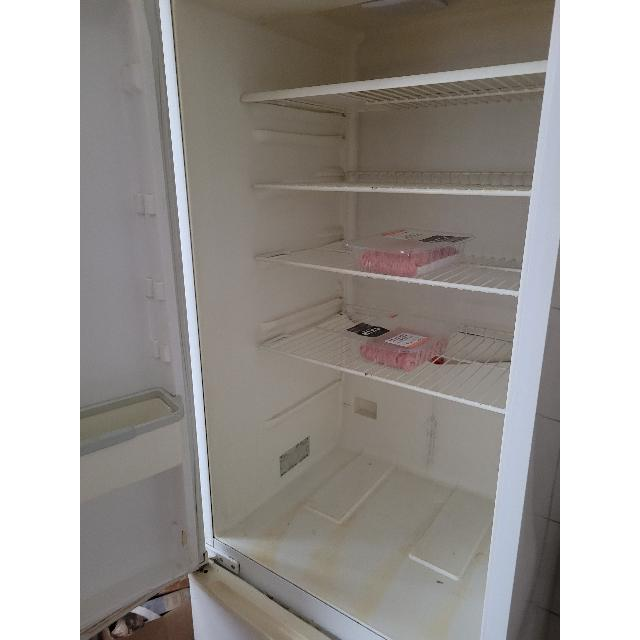meat: (359, 246, 457, 278), (359, 336, 446, 372)
